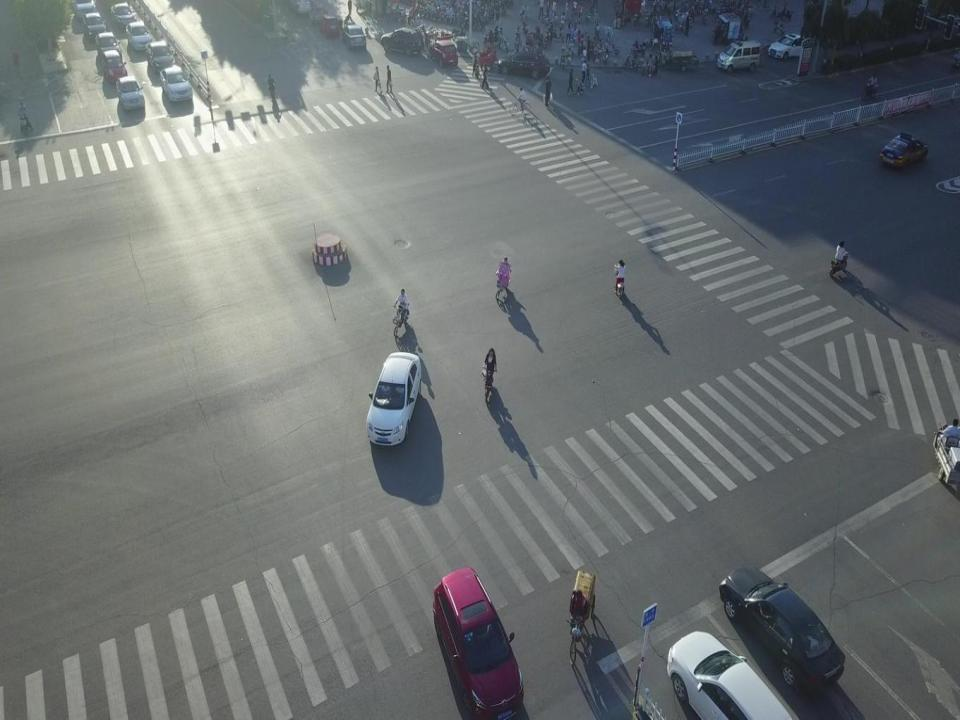car: (718, 566, 846, 690), (432, 566, 524, 720), (667, 630, 794, 720), (366, 351, 422, 445), (880, 130, 929, 168), (496, 51, 550, 79), (380, 26, 424, 57), (767, 33, 813, 60), (160, 66, 192, 102), (115, 75, 145, 113), (145, 40, 175, 74), (101, 49, 128, 86), (428, 40, 459, 68), (94, 31, 122, 61), (126, 21, 153, 51), (109, 2, 138, 29), (342, 24, 368, 50), (82, 12, 106, 40), (69, 0, 96, 19), (319, 16, 340, 39), (286, 0, 312, 17)
van: (716, 40, 760, 74)
